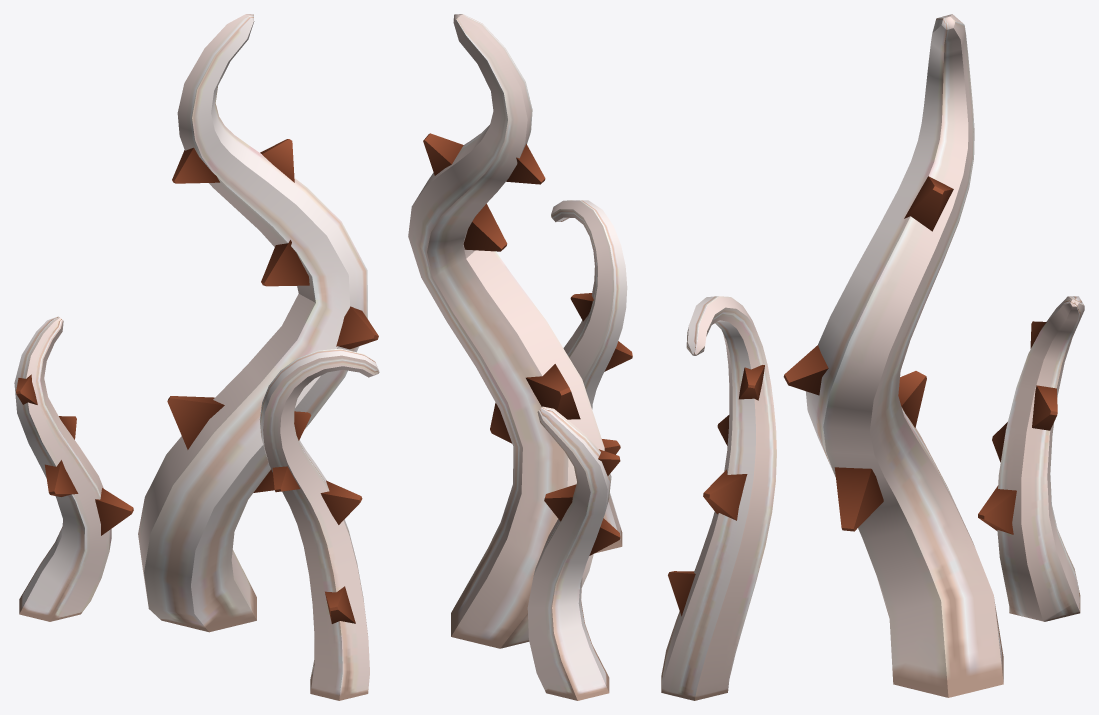
The model's file is ObstacleSickleVines_a.fbx.
3 renders of one model, left to right at view 1: azimuth 30°, elevation 25°; view 2: azimuth 150°, elevation 25°; view 3: azimuth 270°, elevation 25°, orthographic. The views are drawn at different scales.
Parts seen in each view (by area): view 1: vine_obstacle_01, vine_obstacle_02, vine_obstacle_03; view 2: vine_obstacle_01, vine_obstacle_03, vine_obstacle_02; view 3: vine_obstacle_01, vine_obstacle_02, vine_obstacle_03.
Boxes of the visible parts, x1,y1,x2,y2 form: vine_obstacle_01: [138, 14, 378, 632]; vine_obstacle_02: [259, 348, 379, 700]; vine_obstacle_03: [14, 316, 133, 621]; vine_obstacle_01: [408, 14, 604, 648]; vine_obstacle_03: [527, 406, 620, 700]; vine_obstacle_02: [551, 200, 632, 553]; vine_obstacle_01: [783, 14, 1003, 697]; vine_obstacle_02: [661, 296, 776, 700]; vine_obstacle_03: [978, 296, 1084, 621].
Size of what is drawn, in the model's own units: 1.2 by 2.49 by 1.41.
2 materials, 1 textured.
